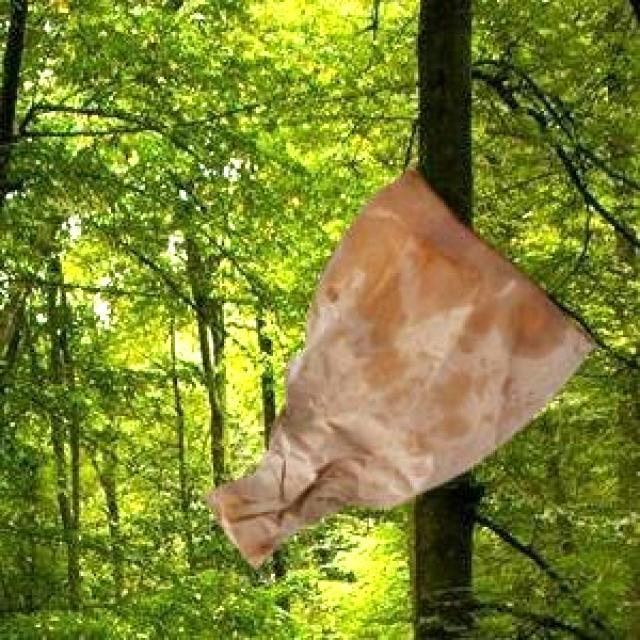Paper_Bag: (200, 161, 594, 564)
